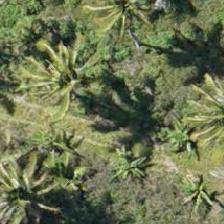coconut_tree: (32, 50, 122, 140), (12, 108, 102, 198), (0, 147, 74, 223), (78, 0, 168, 49)
